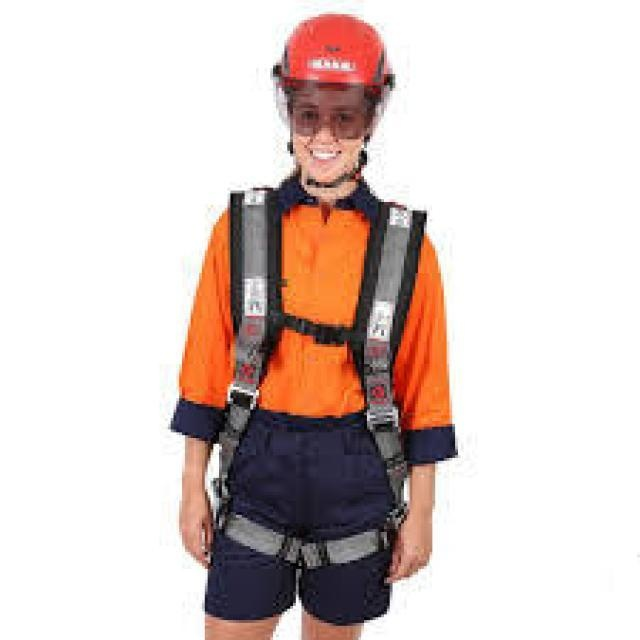Arnes_seguridad: (214, 184, 428, 570)
